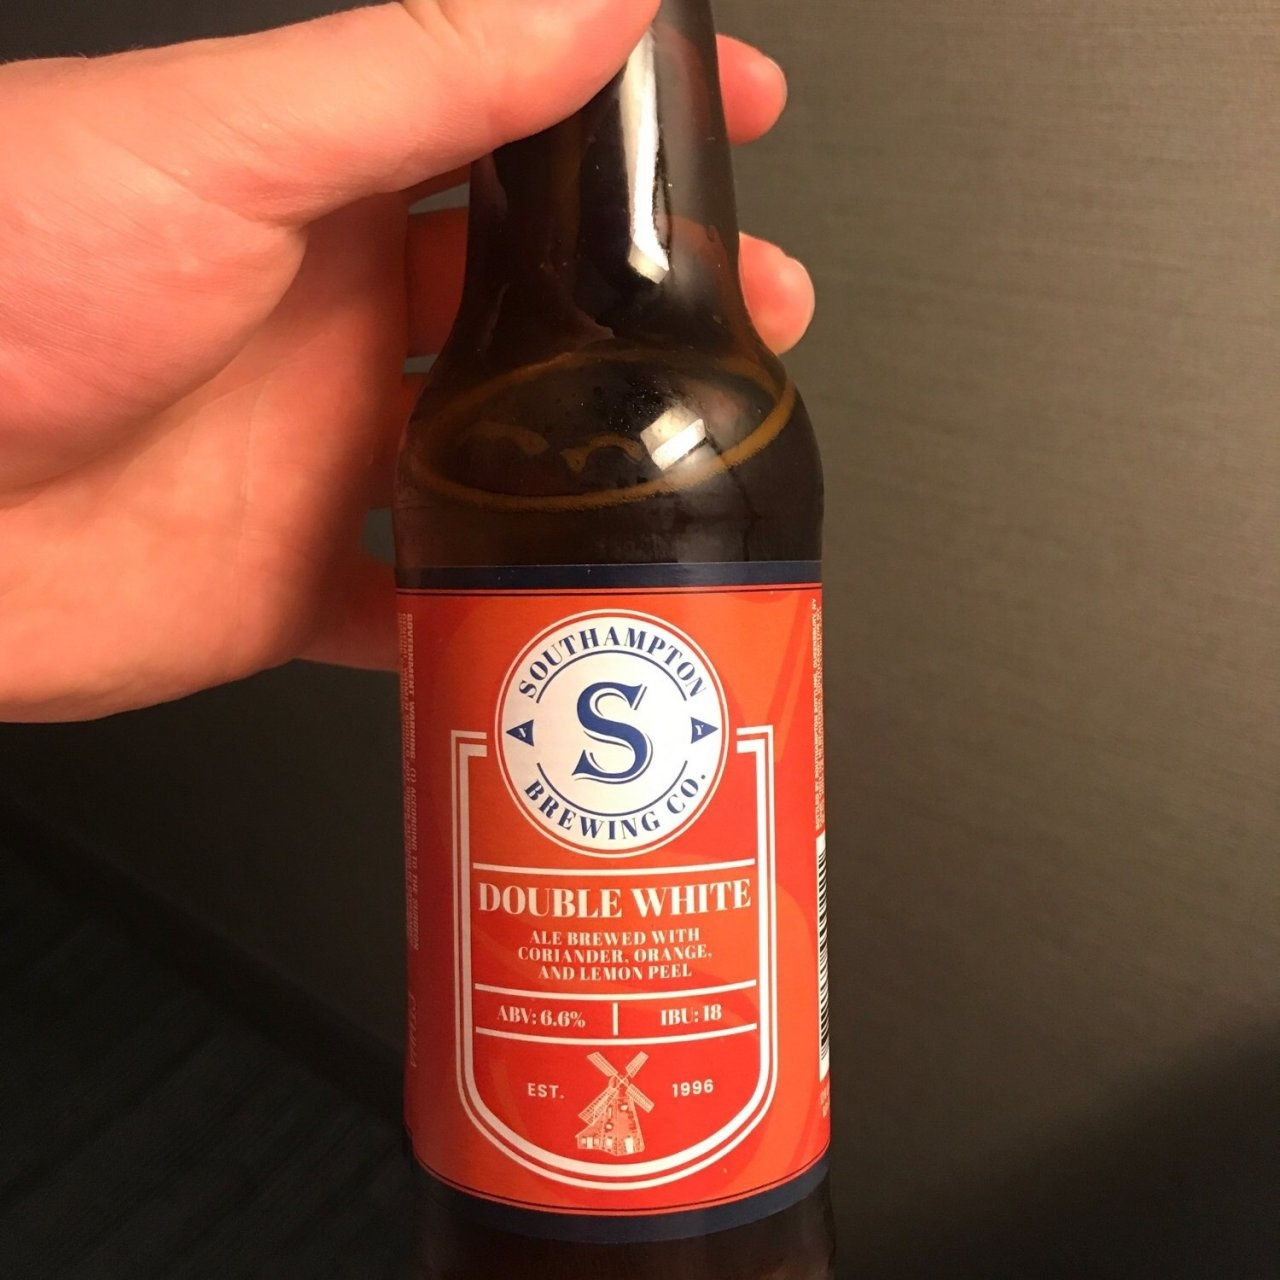beerBottle: (388, 38, 836, 1280)
